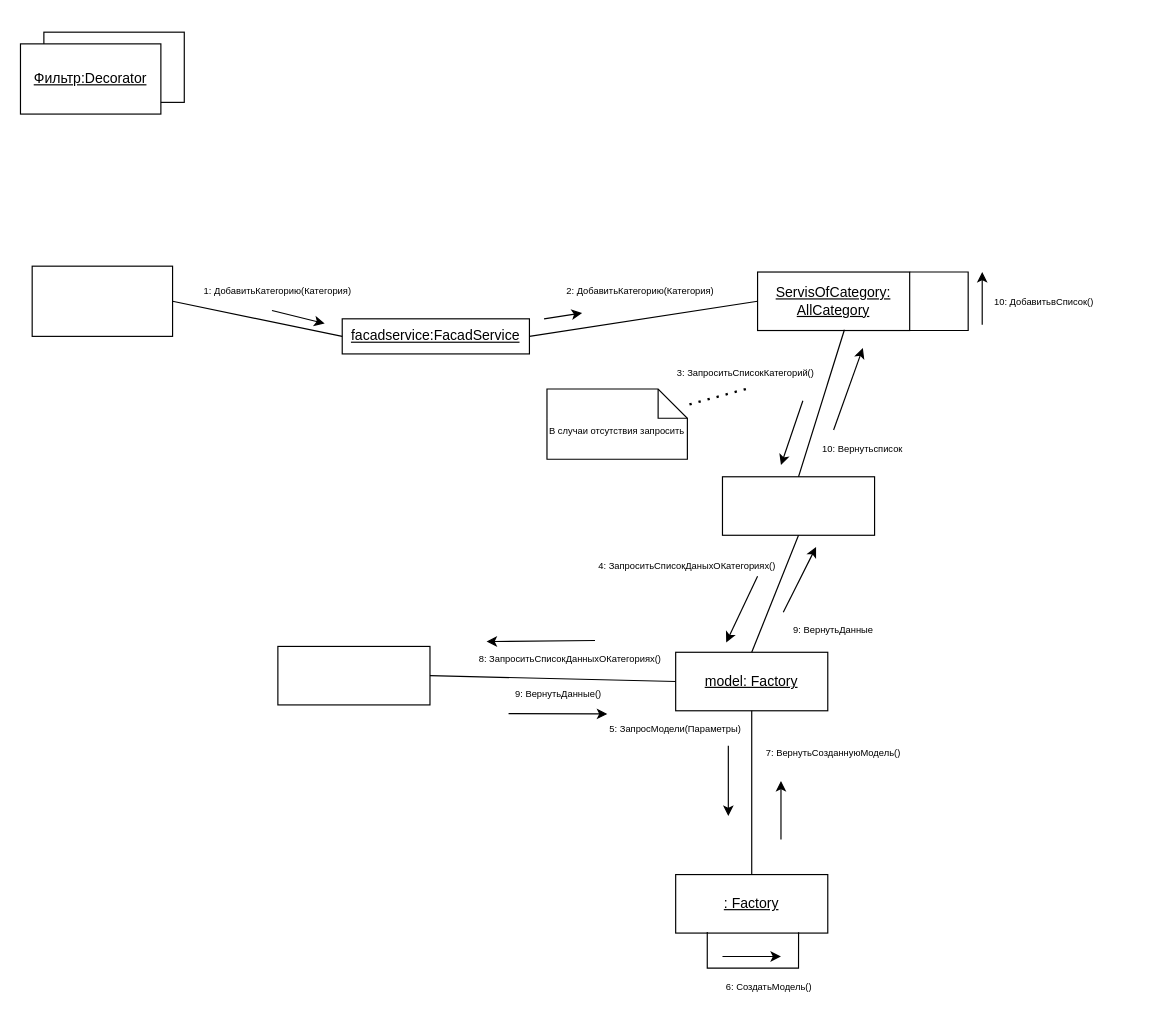
The diagram is 1170 pixels wide and 1025 high, and some of its shapes have lost their labels. Each missing label, with the centre of its shape:
:Admin: the point at 102,300
:provider: the point at 353,675
:SingletonCategory: the point at 798,505
